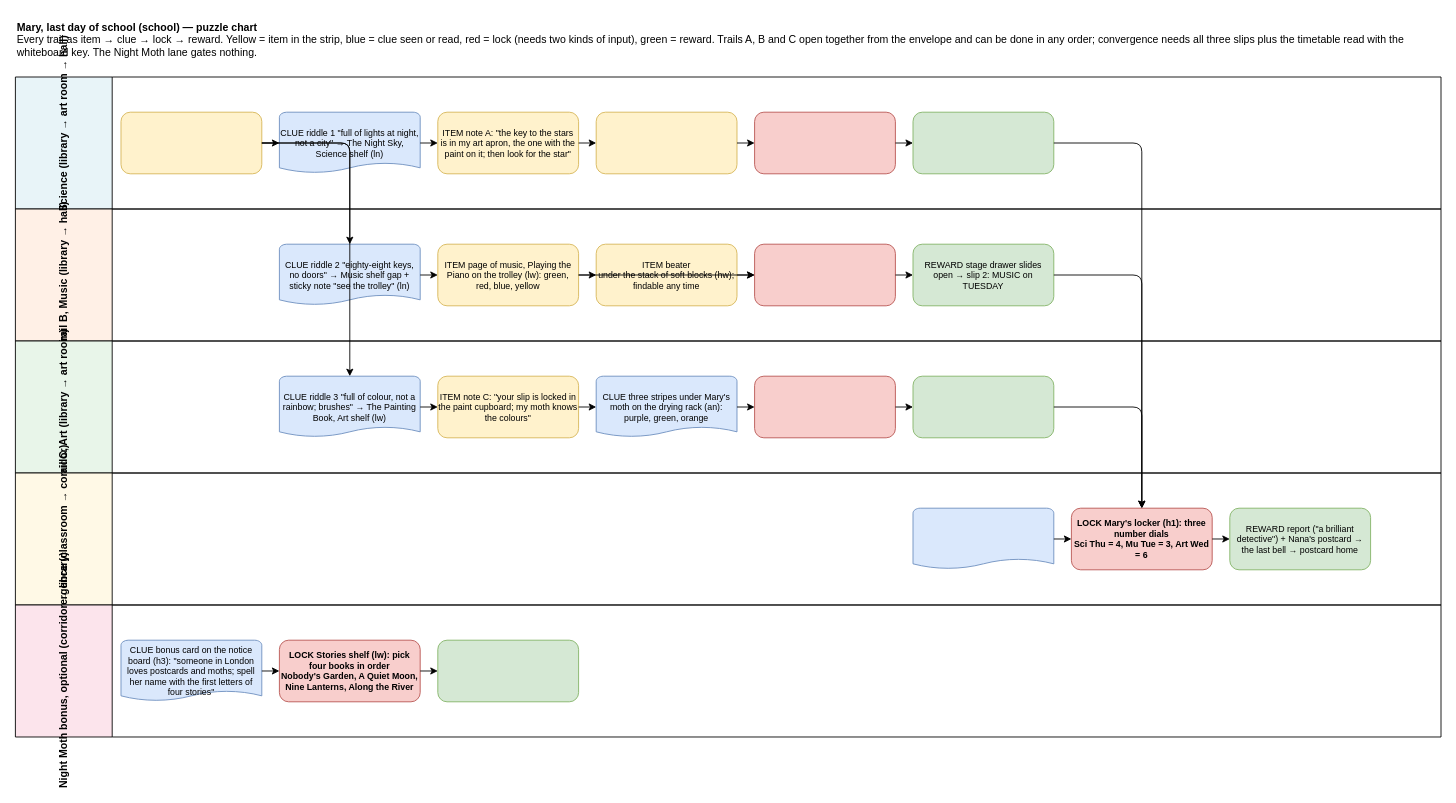
Image size: 1456x803. Some labels were removed from this diagram. The centre of each missing label's shape, as x and y in pixels:
CLUE timetable on the wall (c4) + the picture key on the whiteboard (c1): the point at 983,538
ITEM riddle envelope Mary's desk (c4): all three riddles at once: the point at 191,142
ITEM star key splattered apron pocket (aw); only there once note A is read: the point at 666,142
LOCK chime bars on the stage (hn) beater + the order on the page: the point at 824,274
LOCK colour dials on the paint cupboard (ae) checked only on Open: the point at 824,406
LOCK star padlock, STEM cabinet (he) key + the star on the lock: the point at 824,142
REWARD slip 1: SCIENCE on THURSDAY: the point at 983,142
REWARD slip 3: ART on WEDNESDAY: the point at 983,406
REWARD ★ NANA; the P.S. on the postcard home. Gates nothing.: the point at 508,670
